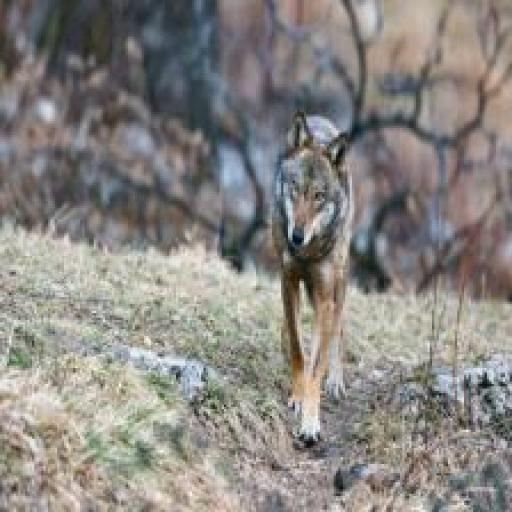wolf: (251, 71, 392, 451)
